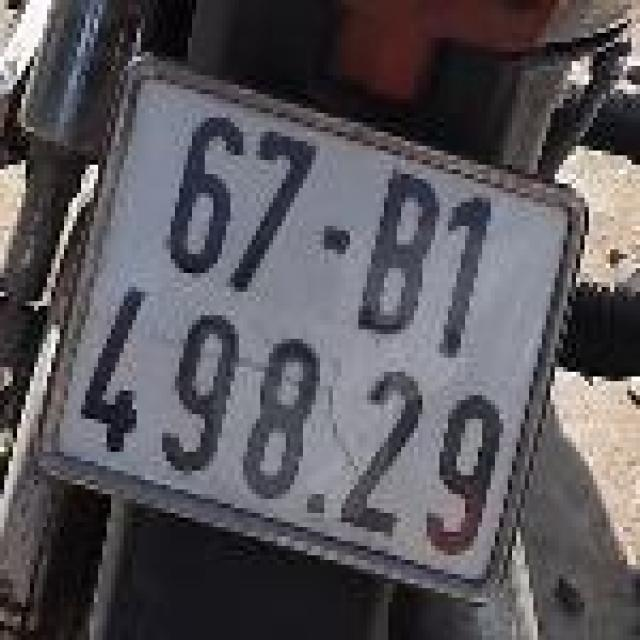1: (424, 186, 506, 372)
2: (333, 360, 437, 547)
4: (70, 274, 176, 469)
6: (154, 102, 255, 287)
7: (225, 123, 321, 307)
8: (230, 330, 333, 514)
9: (150, 298, 260, 489), (413, 381, 512, 567)
B: (347, 153, 448, 352)
